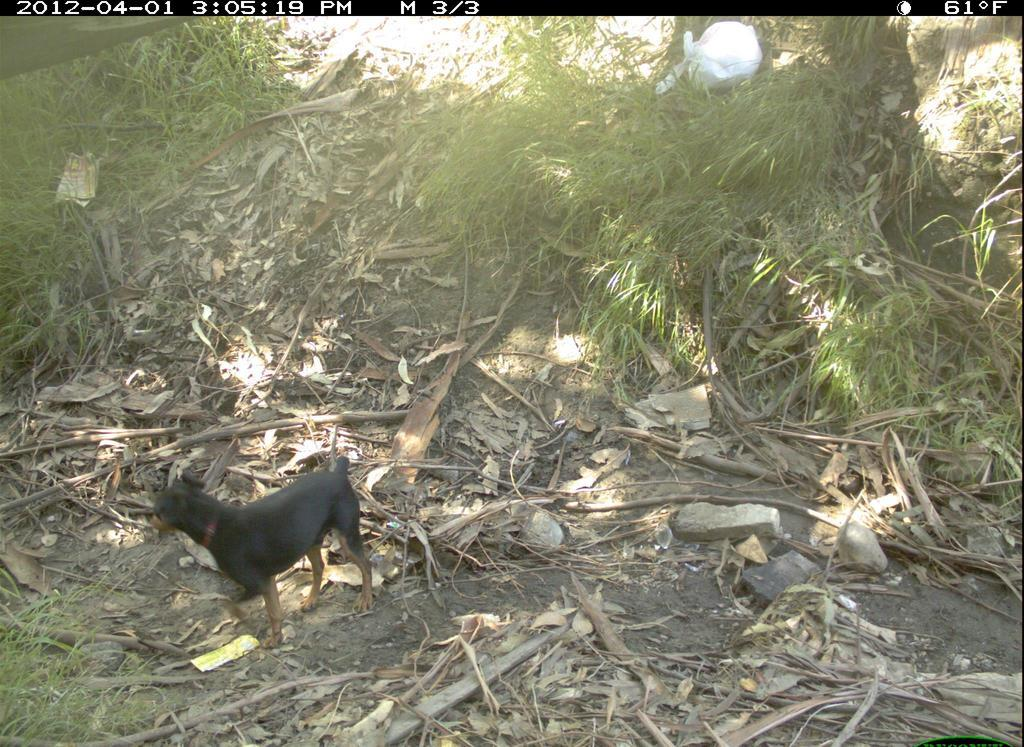dog: (136, 451, 381, 655)
